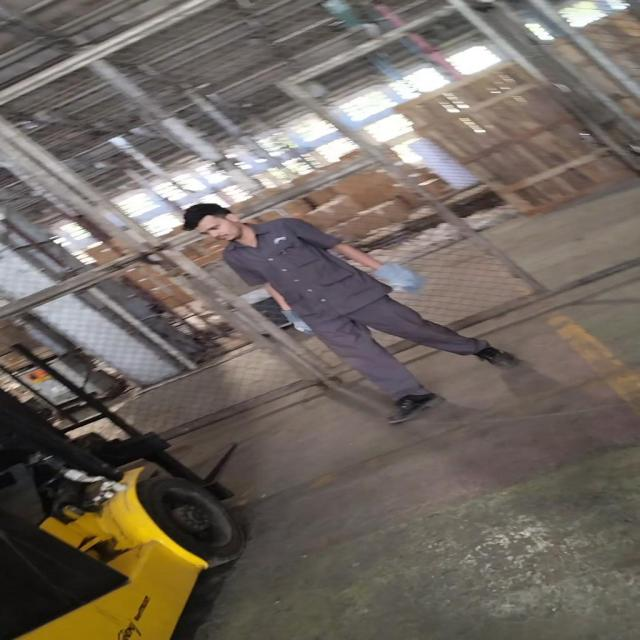Gloves-Detection: (364, 264, 424, 298), (270, 304, 308, 338)
